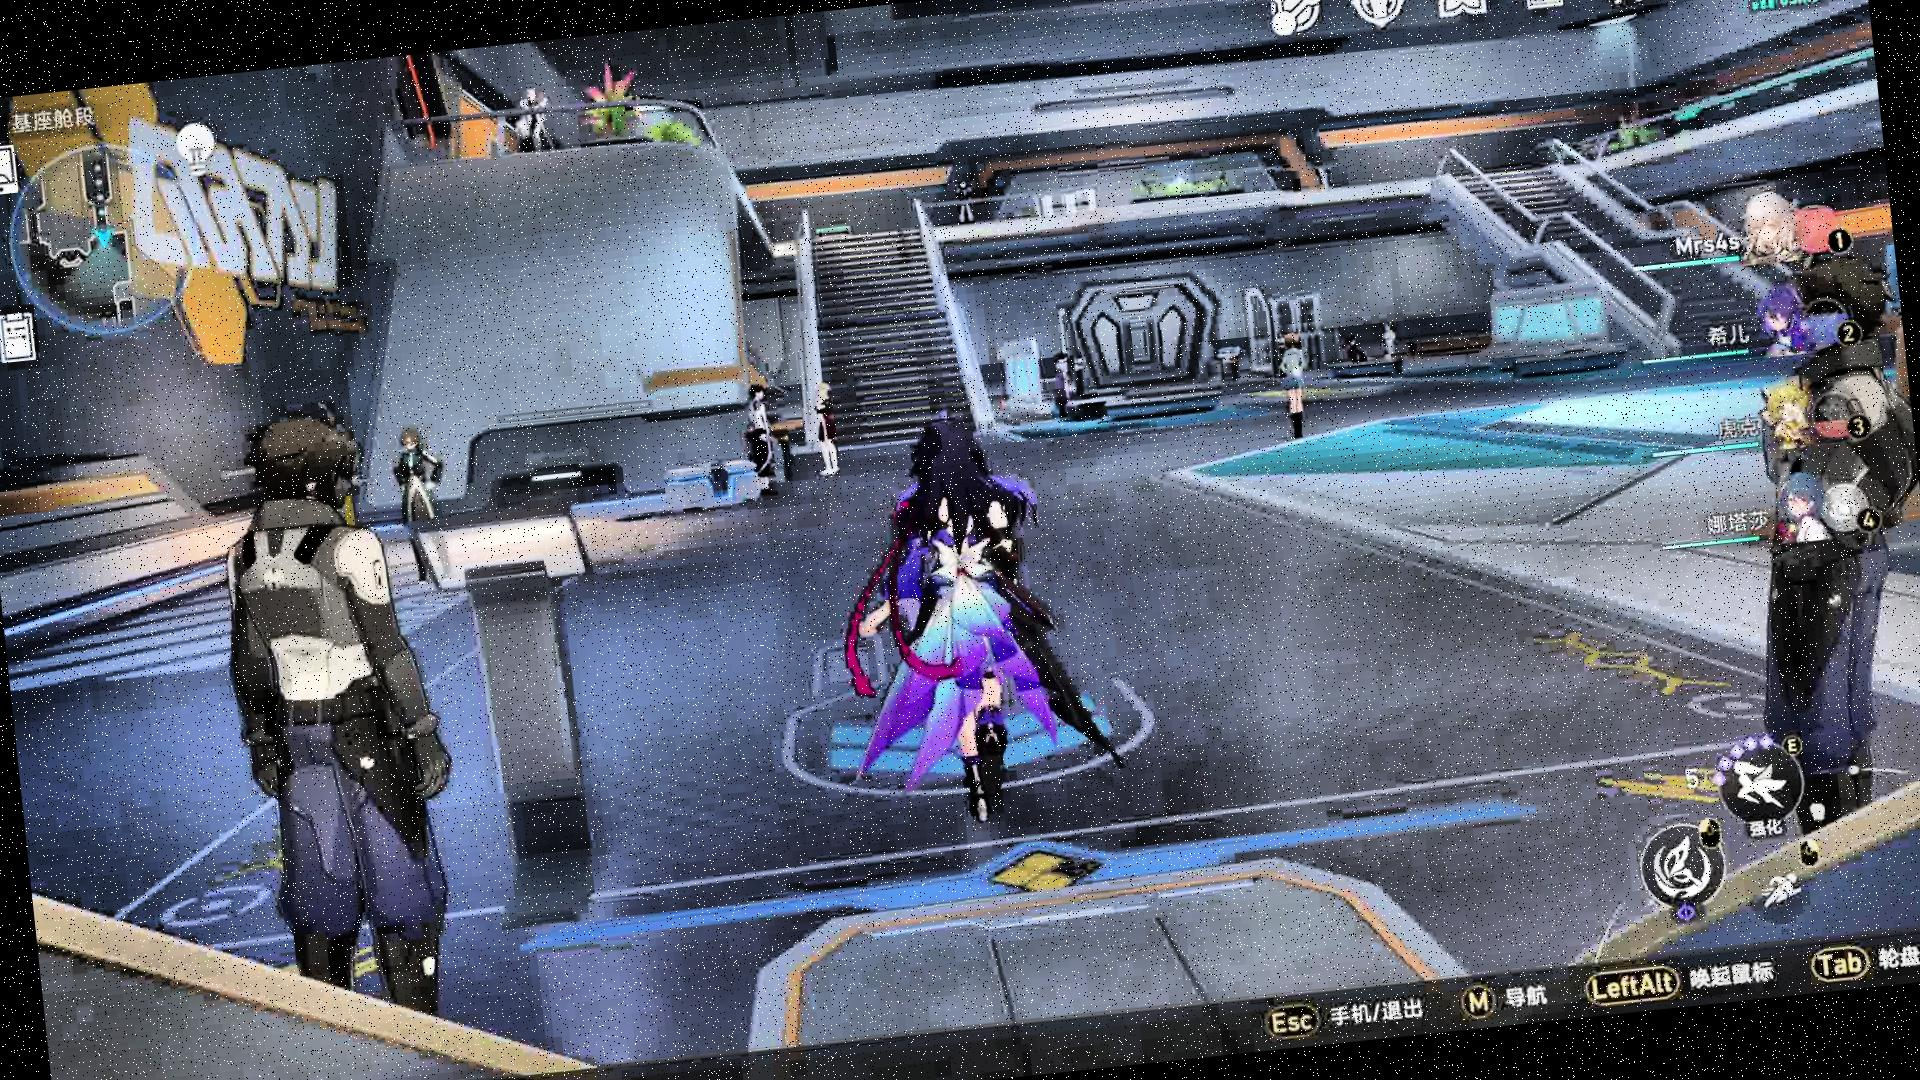Self: (819, 400, 1134, 845)
TeamMate: (207, 409, 468, 1040), (1724, 225, 1920, 839), (382, 417, 451, 588), (737, 381, 789, 501), (1274, 324, 1317, 447), (807, 368, 848, 481), (1047, 343, 1076, 419), (1068, 345, 1093, 406), (1341, 328, 1375, 372), (1379, 316, 1404, 369)
